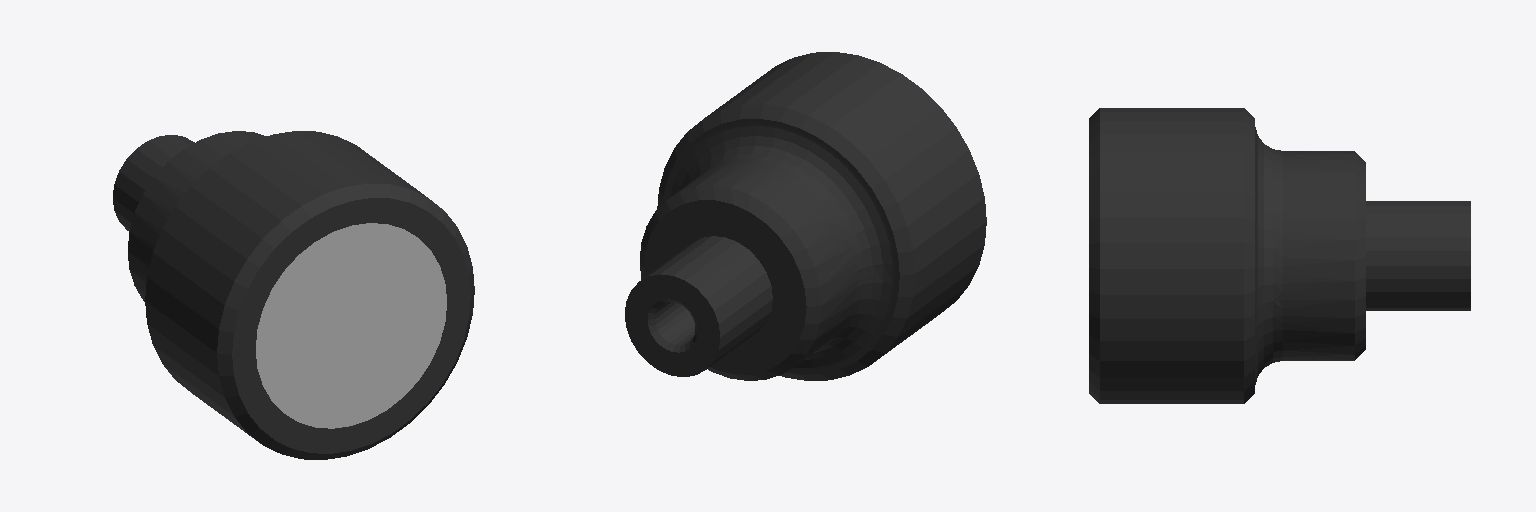
3 renders of one model, left to right at view 1: azimuth 30°, elevation 25°; view 2: azimuth 150°, elevation 25°; view 3: azimuth 270°, elevation 25°, orthographic.
Visible parts, largest first — view 1: gn_3663-27-m5-0_7_1; view 2: gn_3663-27-m5-0_7_1; view 3: gn_3663-27-m5-0_7_1.
Boxes of the visible parts, box(x1,y1,x2,y2) form: gn_3663-27-m5-0_7_1: box(113, 131, 474, 459); gn_3663-27-m5-0_7_1: box(625, 52, 986, 380); gn_3663-27-m5-0_7_1: box(1089, 108, 1470, 403).
Bounding box in the file's own units: 26.9 × 26.9 × 34.5.